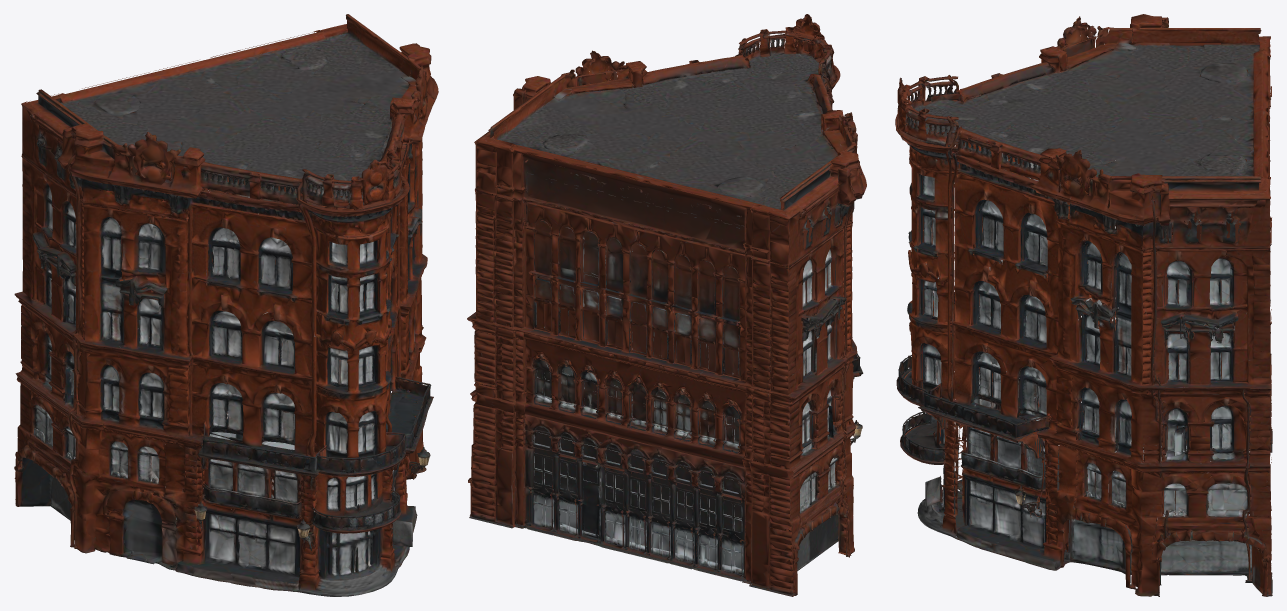
Rendered from lamp_block.glb.
3 renders of one model, left to right at view 1: azimuth 30°, elevation 25°; view 2: azimuth 150°, elevation 25°; view 3: azimuth 270°, elevation 25°, orthographic. The views are drawn at different scales.
Bounding box in the file's own units: 1.65 × 1.9 × 1.49.
1 material, 1 textured.
